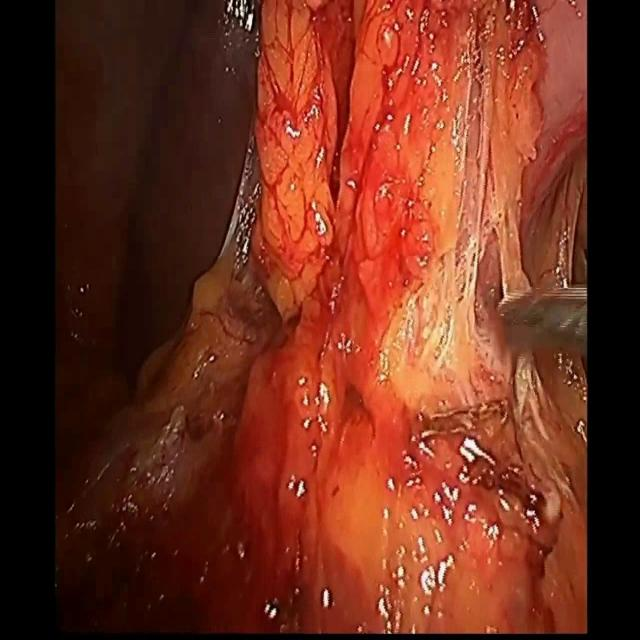surgical-area: (55, 0, 587, 634)
surgical-tool: (496, 284, 586, 355)
